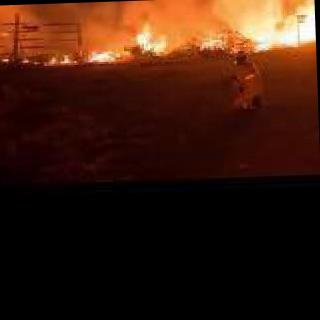fire: (107, 0, 315, 21), (250, 0, 316, 50), (139, 22, 174, 54), (23, 55, 70, 65), (86, 50, 116, 64)
